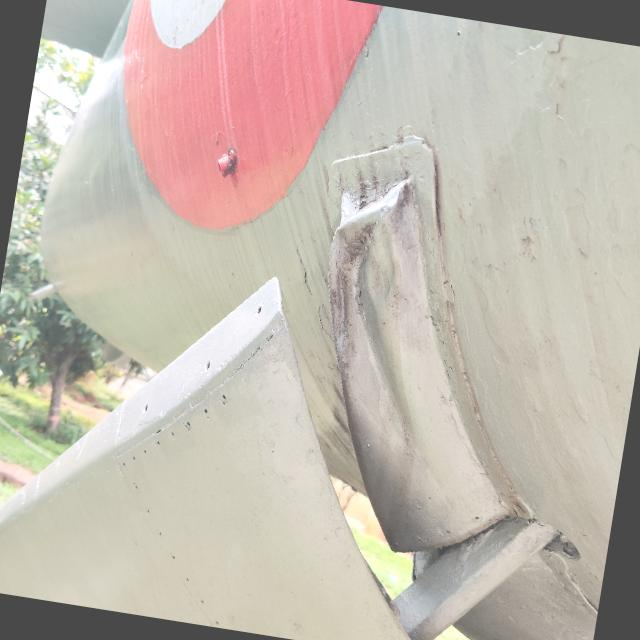dent: (270, 156, 484, 498)
